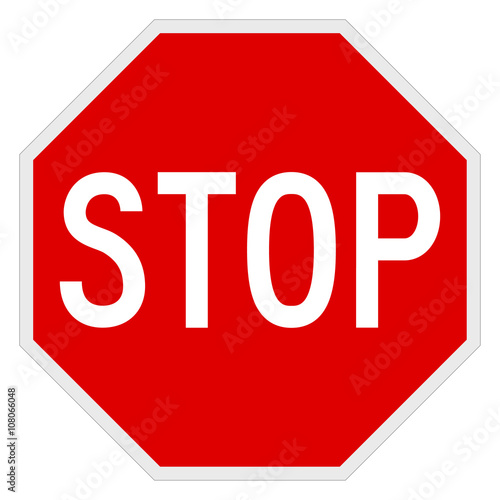StopSign: (19, 19, 481, 480)
